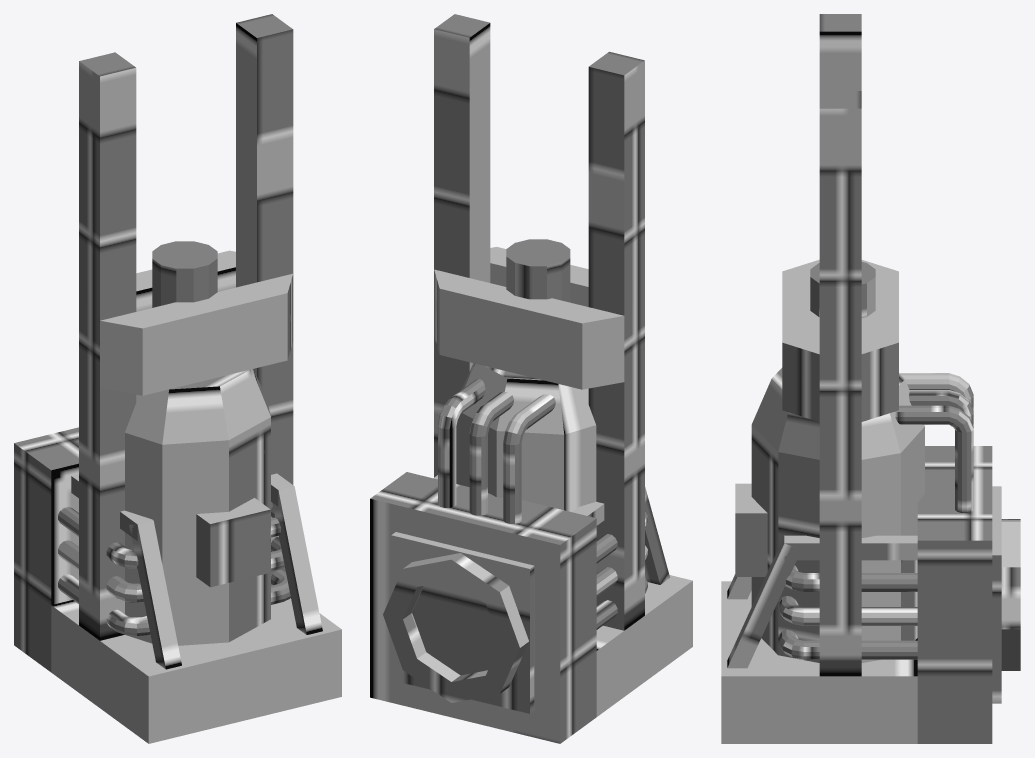
The model's file is compressor.obj.
The picture shows the model from 3 angles, left to right: view 1: azimuth 30°, elevation 25°; view 2: azimuth 150°, elevation 25°; view 3: azimuth 270°, elevation 25°; orthographic projection. The views are drawn at different scales.
Visible parts, largest first — view 1: mesh; view 2: mesh; view 3: mesh.
Part boxes in pixels (box(x1,y1,x2,y2)): mesh: box(14, 14, 341, 743); mesh: box(370, 14, 692, 743); mesh: box(721, 14, 1020, 743).
Bounding box in the file's own units: 3 × 9.38 × 4.
